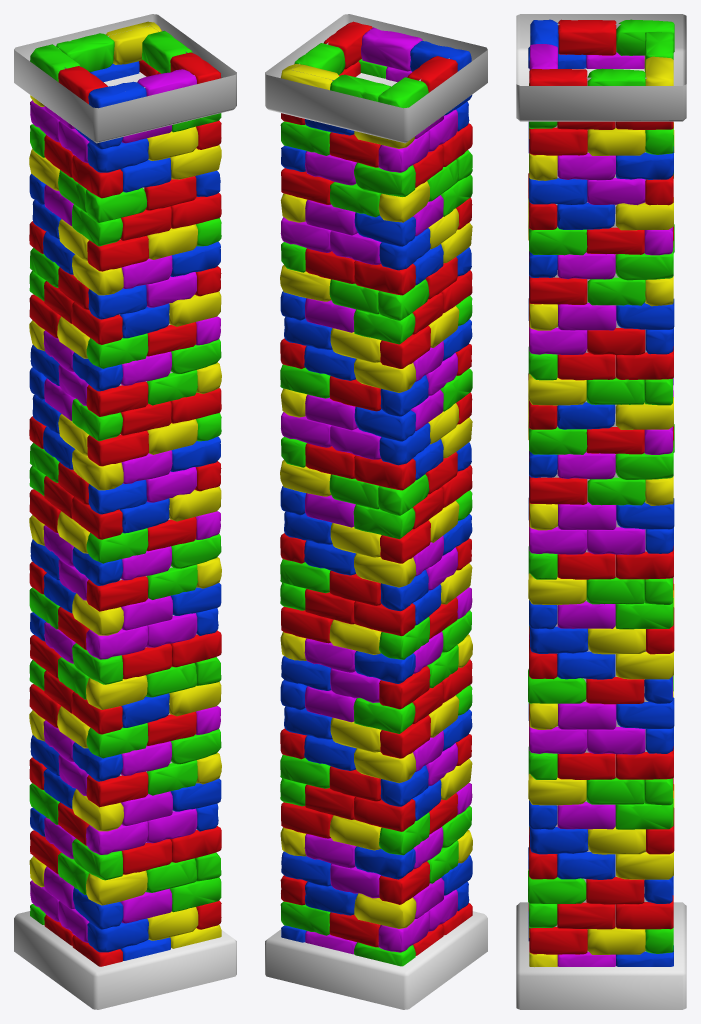
The model's file is column.fbx.
3 renders of one model, left to right at view 1: azimuth 30°, elevation 25°; view 2: azimuth 150°, elevation 25°; view 3: azimuth 270°, elevation 25°, orthographic. The views are drawn at different scales.
Parts seen in each view (by area): view 1: column, edge top, edge bottom; view 2: column, edge top, edge bottom; view 3: column, edge top, edge bottom.
Boxes of the visible parts, x1,y1,x2,y2 form: column: [29, 21, 221, 966]; edge top: [14, 14, 236, 143]; edge bottom: [14, 911, 236, 1009]; column: [280, 21, 472, 966]; edge top: [265, 14, 487, 143]; edge bottom: [265, 911, 487, 1009]; column: [528, 19, 674, 966]; edge top: [516, 14, 686, 121]; edge bottom: [516, 902, 686, 1009].
Size of the model in its own units: 117 by 701 by 117.
